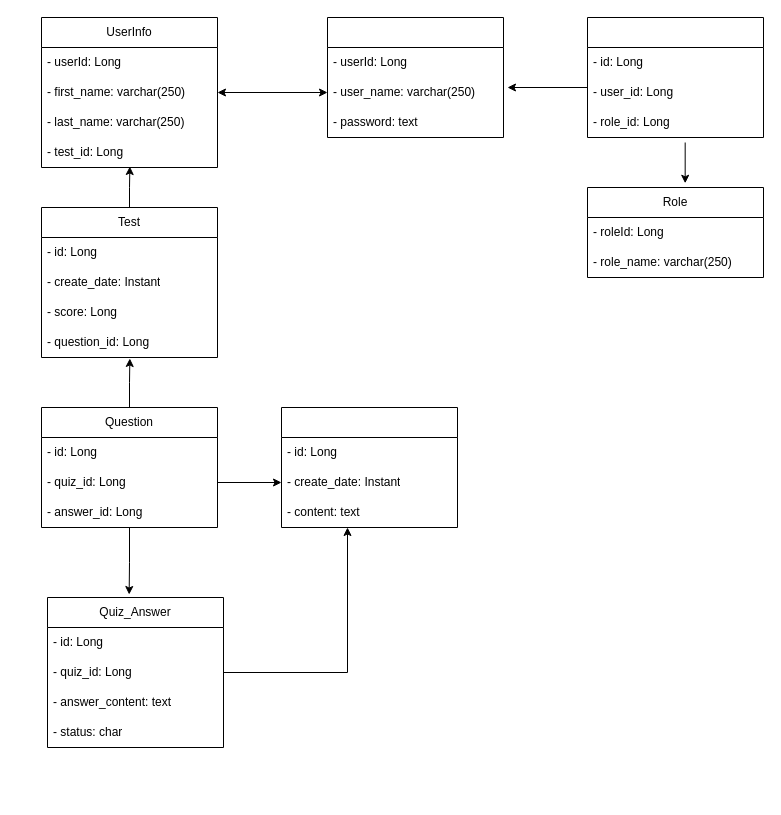
This 781x815 diagram has some shape labels left out. The box of each missing label's shape, as (x1, y1, x2, y2) in pixels:
Login: (326, 16, 504, 138)
Quiz_list: (280, 406, 458, 528)
User_group: (586, 16, 764, 138)
